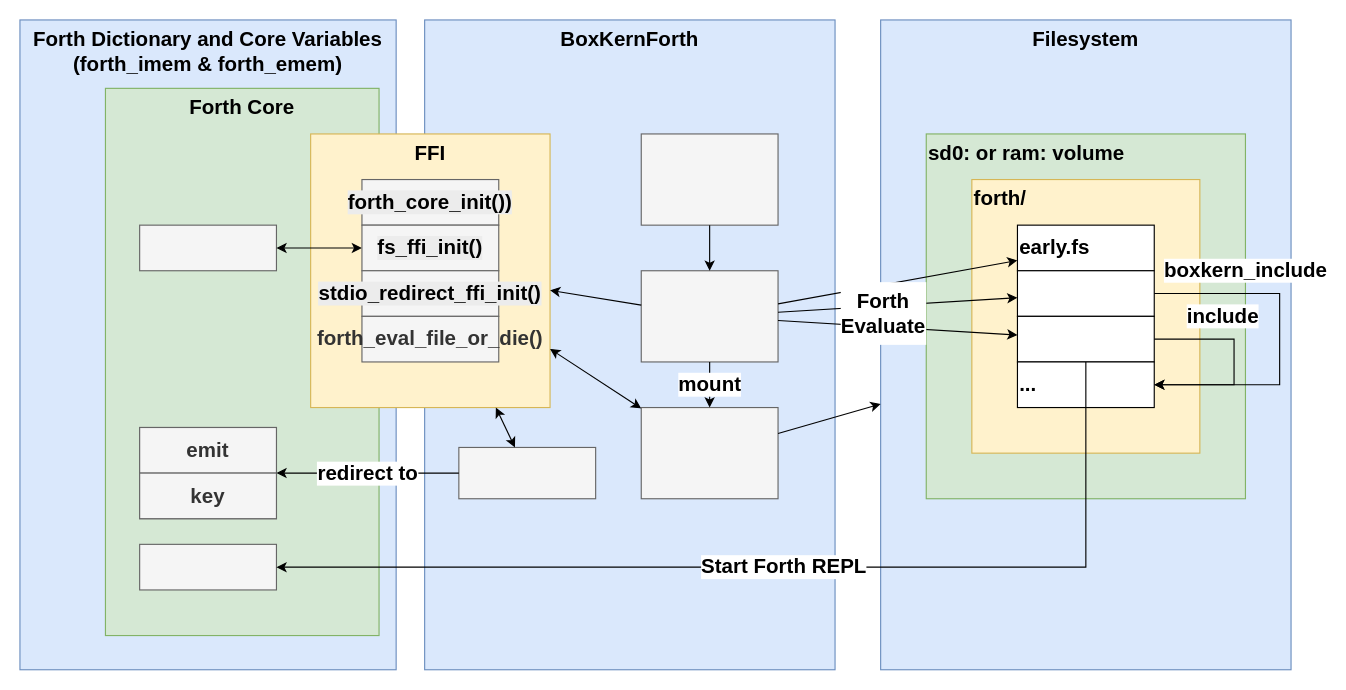
Some shapes in this 1346 by 690 pixel diagram are drawn without their labels. The centre of each missing label's shape, as x and y in pixels:
"boxkern-includes.fs" goes at point 1085,293.
"C stdio" goes at point 527,472.
"crt0" goes at point 709,179.
"FATFS" goes at point 709,452.
"fs_* Words" goes at point 207,247.
"init.fs" goes at point 1085,338.
"main()" goes at point 709,316.
"quit" goes at point 207,566.
